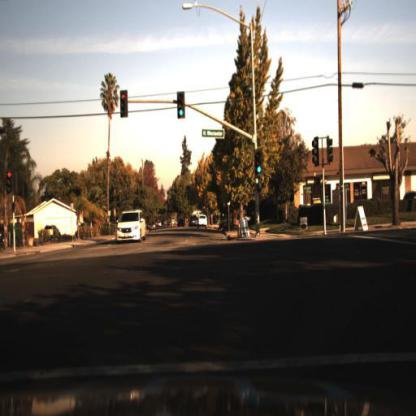car: (115, 210, 151, 245), (43, 224, 64, 244), (147, 218, 159, 237), (198, 213, 210, 229)
trafficLight-Green: (177, 88, 187, 122), (255, 149, 263, 180)
trafficLight-RedLeft: (119, 88, 131, 120)
